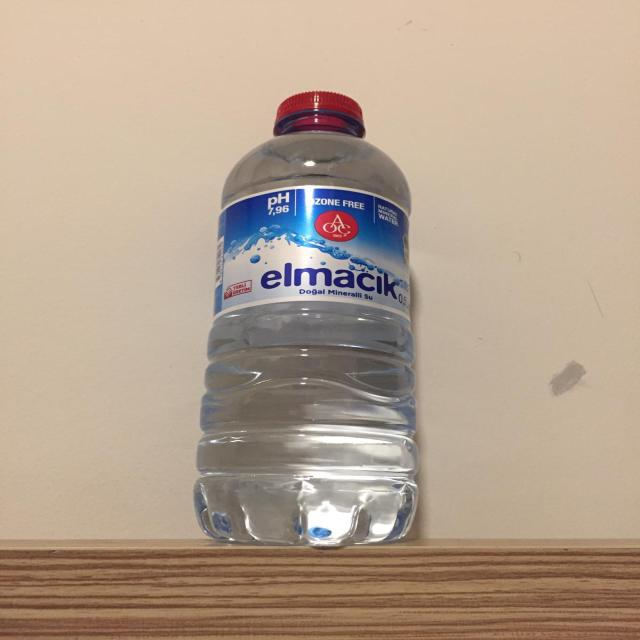anorganik: (214, 89, 424, 563)
